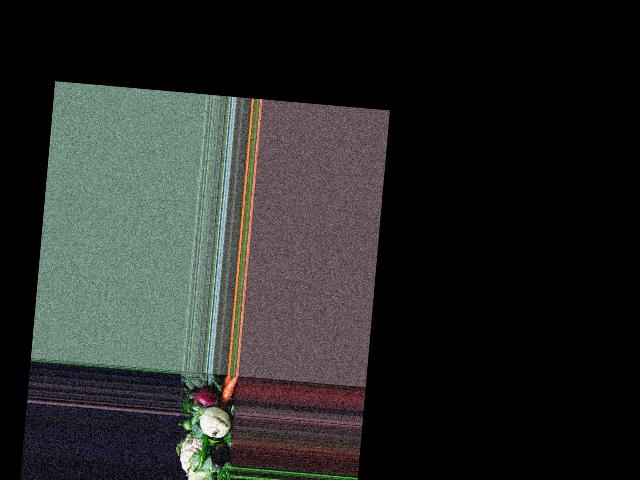carrot: (217, 373, 239, 404)
